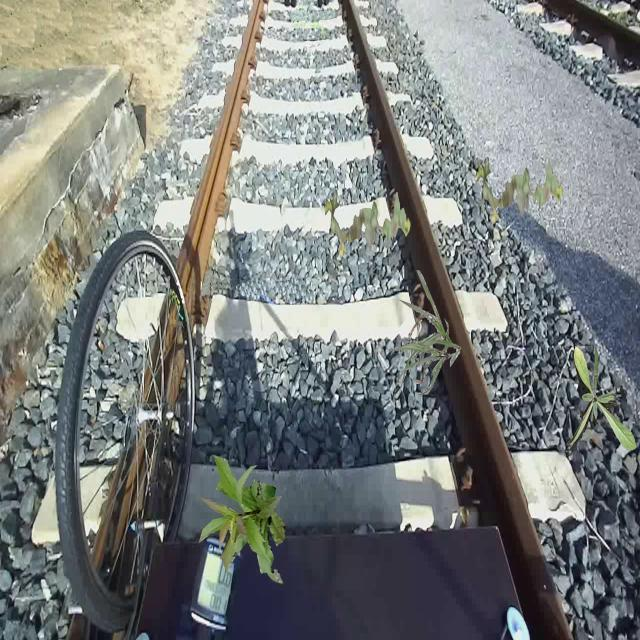Plant: (197, 455, 286, 585), (389, 270, 462, 394), (565, 345, 636, 453), (324, 190, 411, 258), (476, 156, 562, 224)
